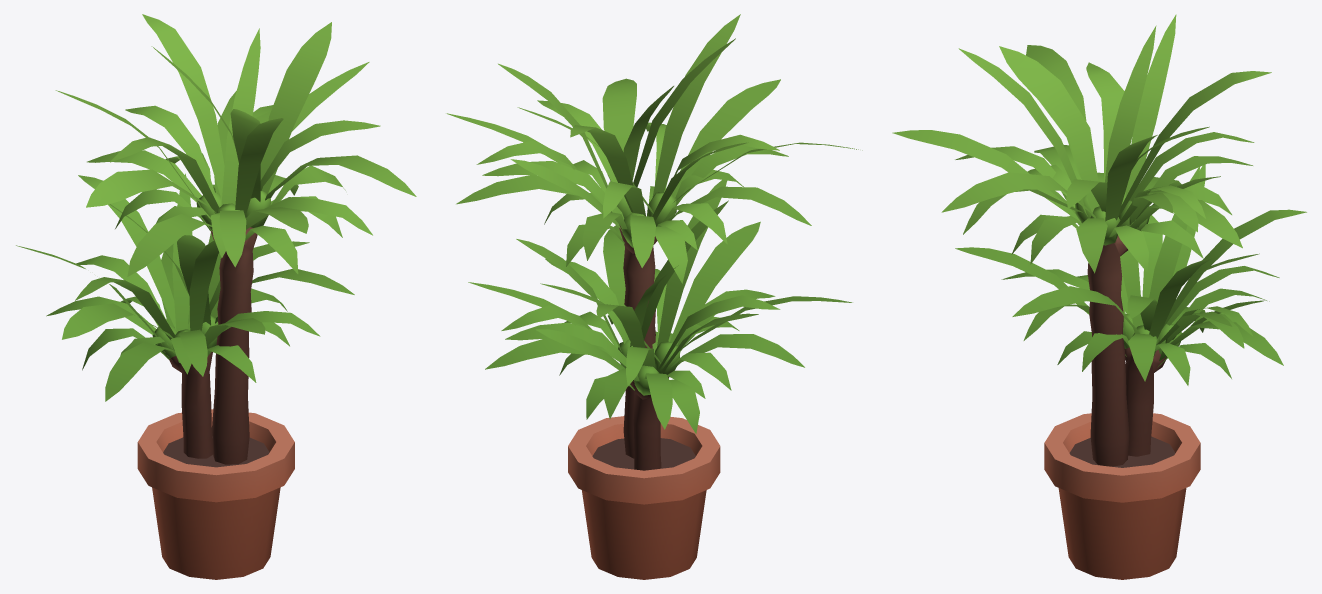
The model's file is Flower_03.obj.
3 views of the same model, side by side, from view 1: azimuth 30°, elevation 25°; view 2: azimuth 150°, elevation 25°; view 3: azimuth 270°, elevation 25° (orthographic). The views are drawn at different scales.
Visible parts, largest first — view 1: Flower_03; view 2: Flower_03; view 3: Flower_03.
Part boxes in pixels (x1,y1,x2,y2): Flower_03: (16,14,416,579); Flower_03: (446,14,862,579); Flower_03: (892,14,1306,579).
Size of the model in its own units: 1.76 by 2.36 by 1.74.
1 material, 1 textured.
